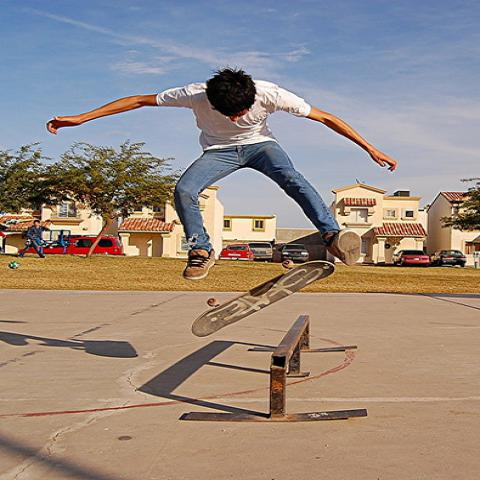car: (19, 236, 123, 255), (429, 249, 466, 268), (278, 242, 310, 263), (219, 244, 255, 261), (391, 250, 431, 264), (249, 243, 276, 263)
truck: (219, 244, 254, 262)
